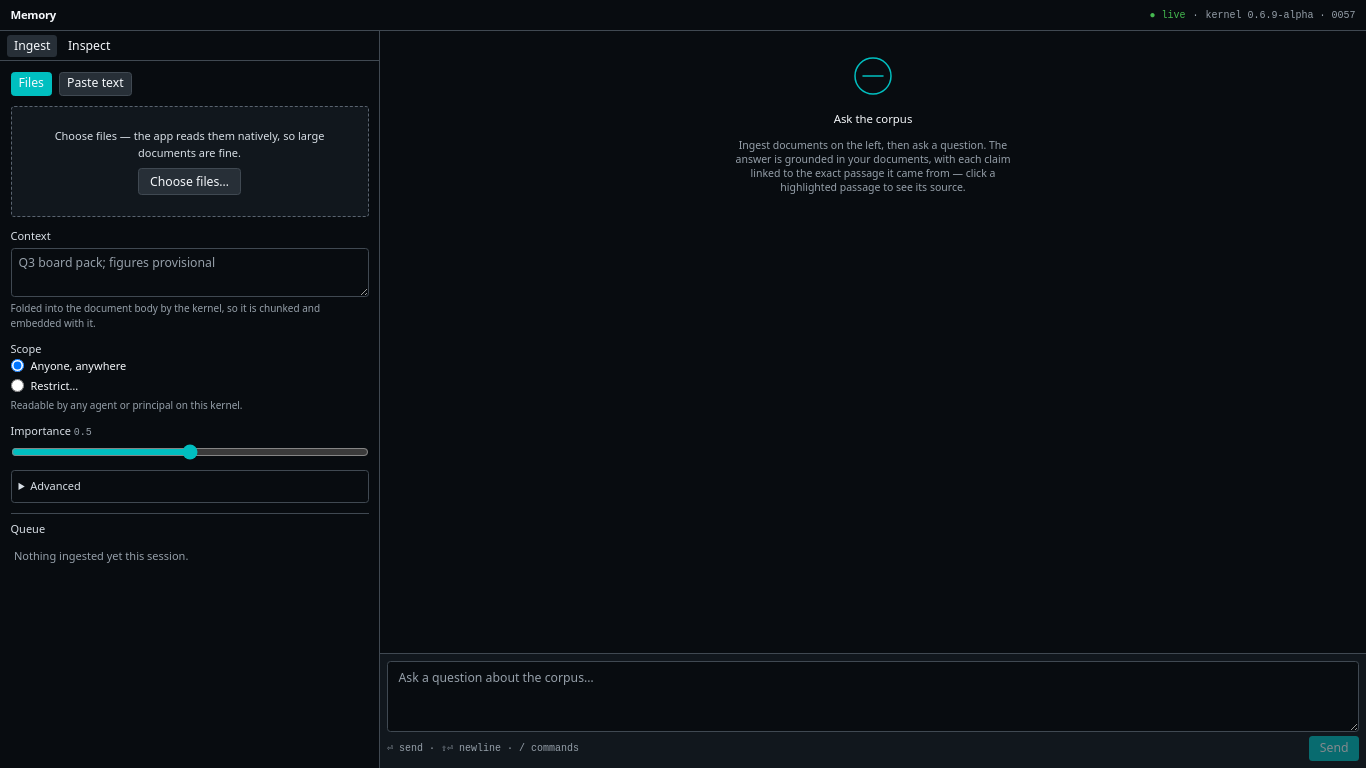
Test case: MemoryPage — ask (ADR-0081 grounded answer) › renders a grounded answer with clickable cited passages
Type "who is the little prince?" into the text box with placeholder "Ask a question about the corpus…".
click(873, 697); type("who is the little prince?")  # box [387,661,1359,732]
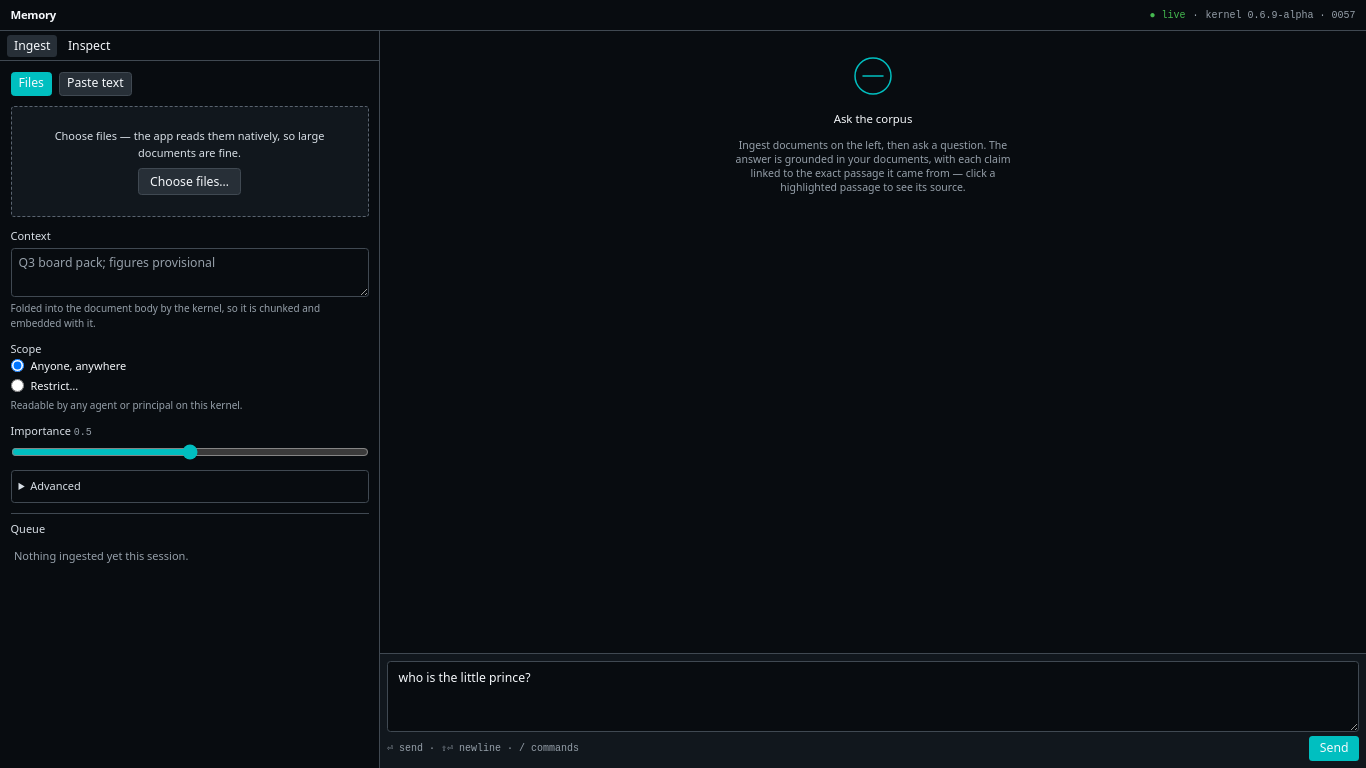
Press Enter in the text box with placeholder "Ask a question about the corpus…", box [387,661,1359,732]
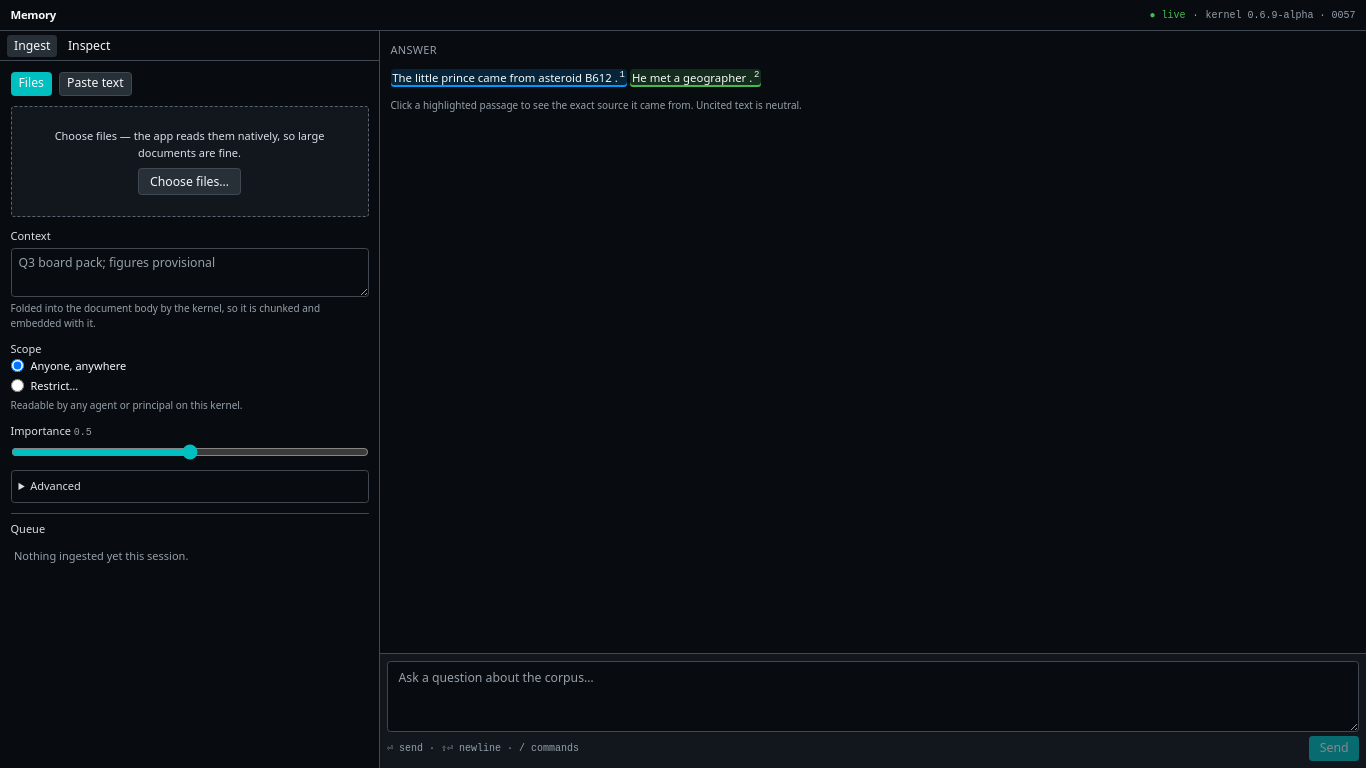
Expected: the button "Cited passage; sources 1" does not show "[1]"
Expected: the button with aria-label "Cited passage; sources 1" shows "The little prince came from asteroid B612"
# Clicking a cited passage reveals its exact source chunk.
Click the button with aria-label "Cited passage; sources 1".
click(509, 78)  # box [390,69,627,87]
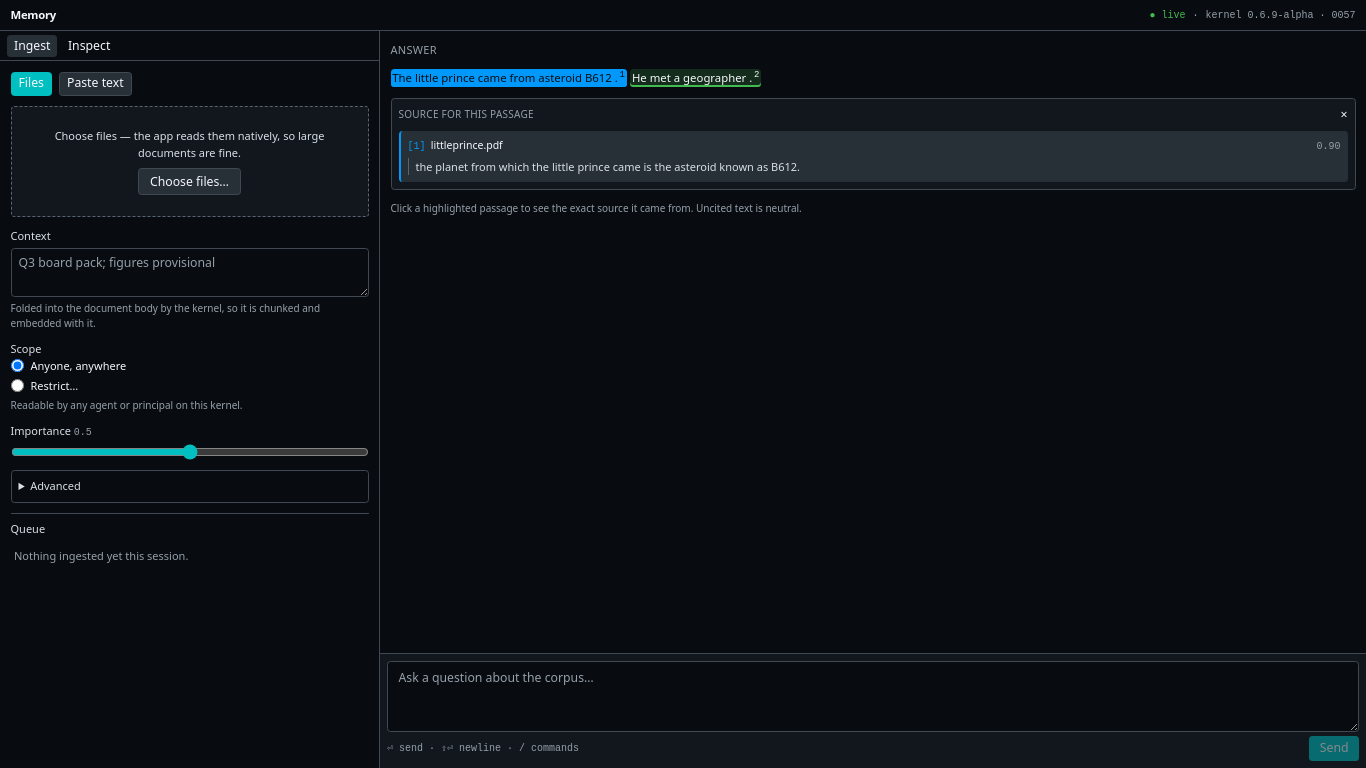
Expected: the text "the asteroid known as B612" is shown, [416,159,800,174]
